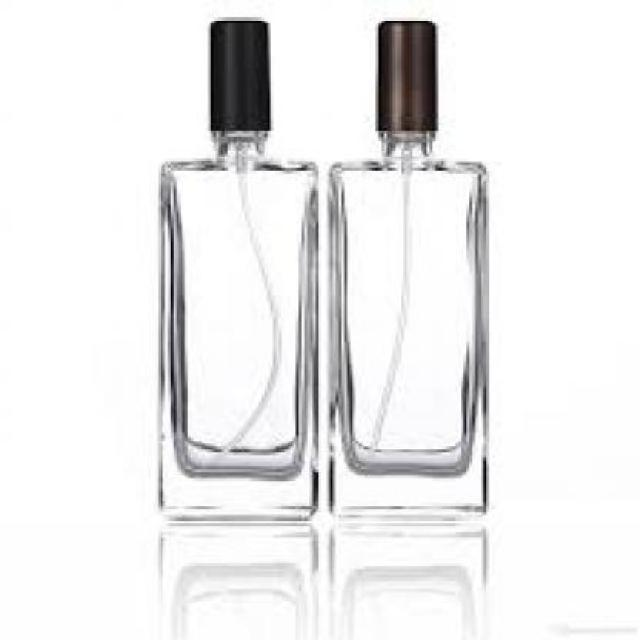kaca: (328, 131, 486, 512), (160, 131, 314, 512)
